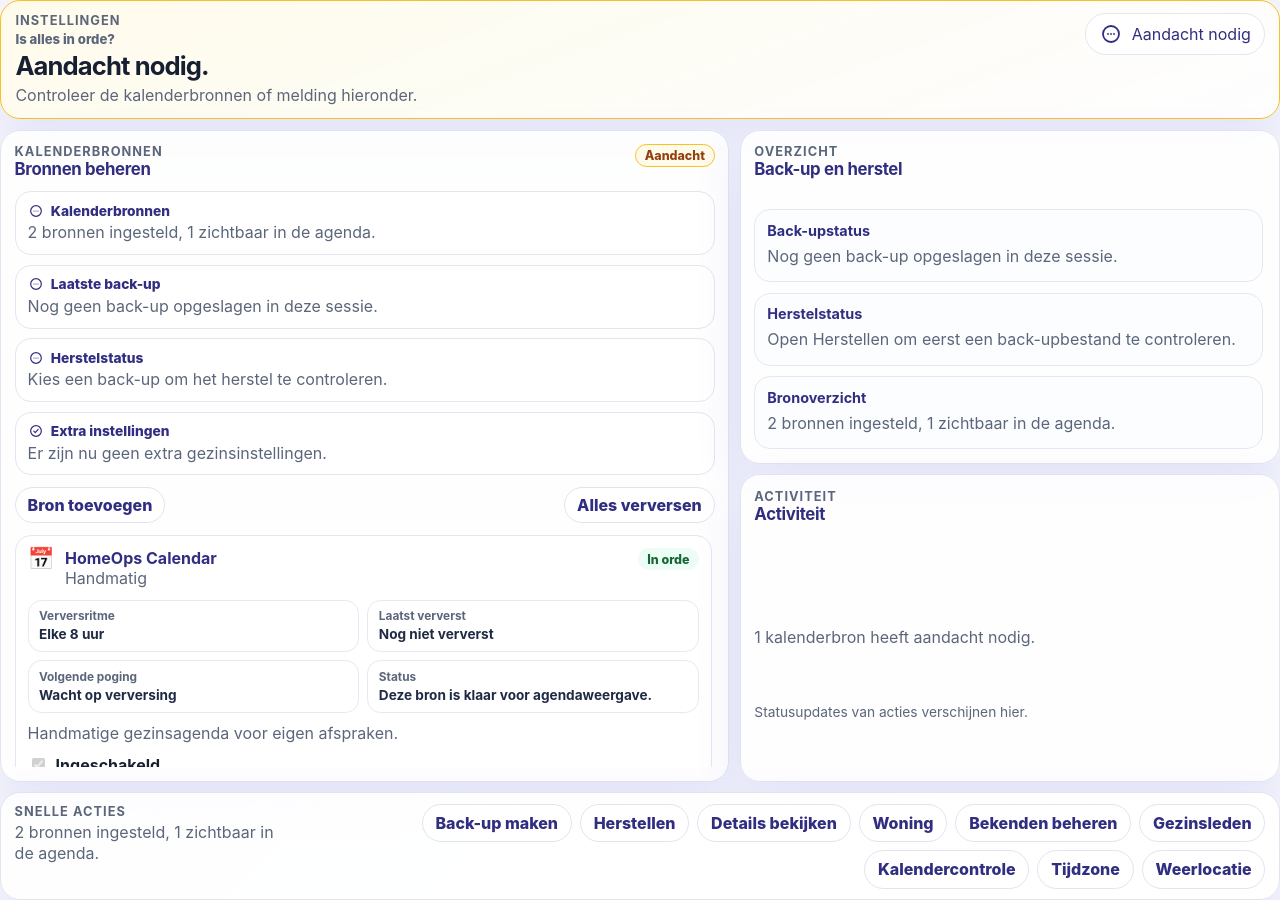
Test: SettingsDashboard › shows refresh-all results without a page reload
The width and height of the screenshot is (1280, 900).
Click the button "Alles verversen" at (639,505), box [564, 488, 715, 523]
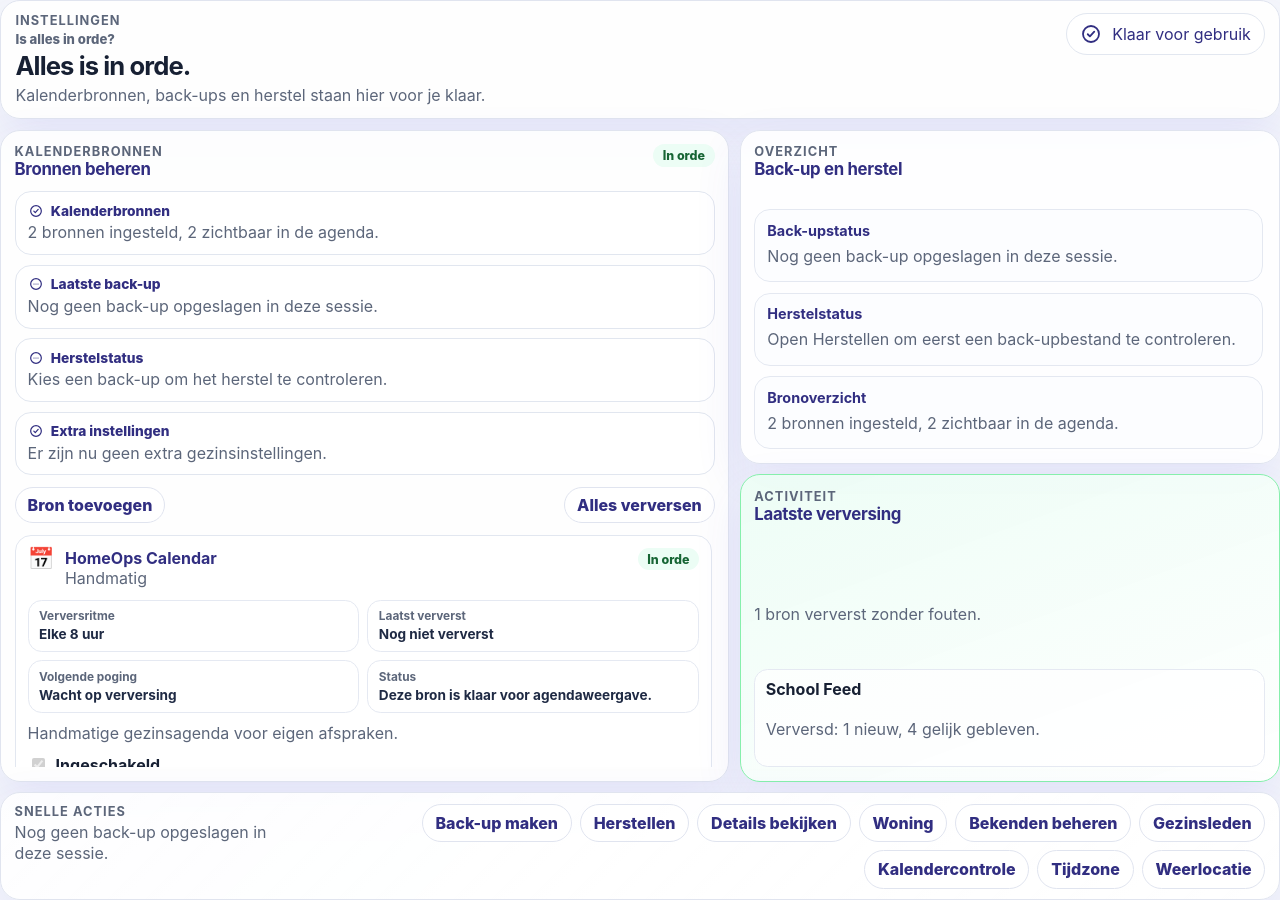
Expected: the text "1 bron ververst zonder fouten." is shown, [754, 604, 981, 624]
Expected: the text "Verversd: 1 nieuw, 4 gelijk gebleven." is shown, [766, 719, 1040, 739]
